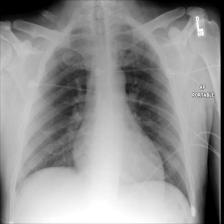normal: (11, 18, 193, 209)
